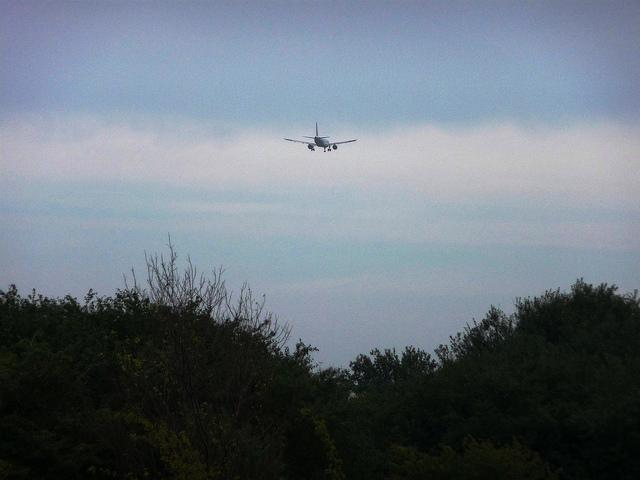airplane: (283, 120, 358, 154)
